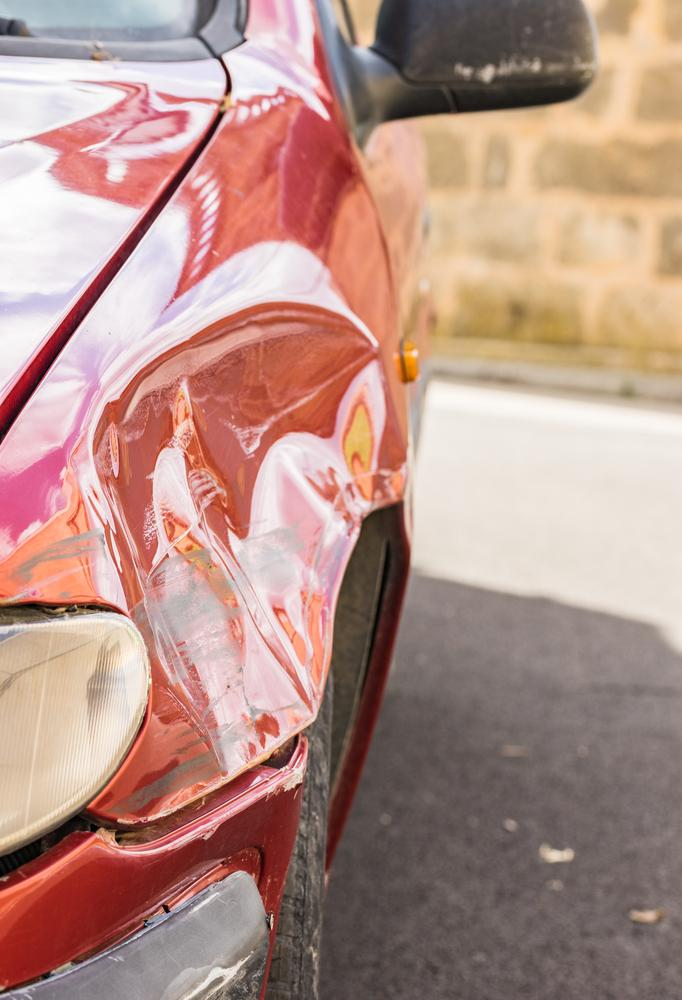dent: (79, 306, 412, 825)
